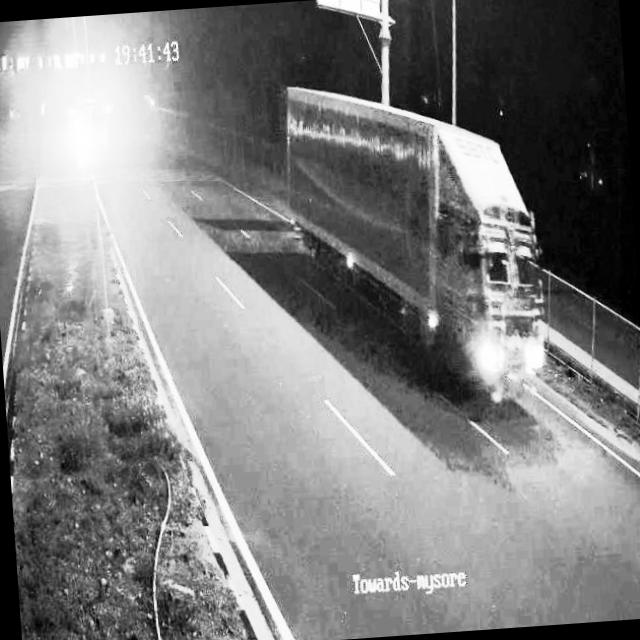Truck: (276, 67, 555, 417)
